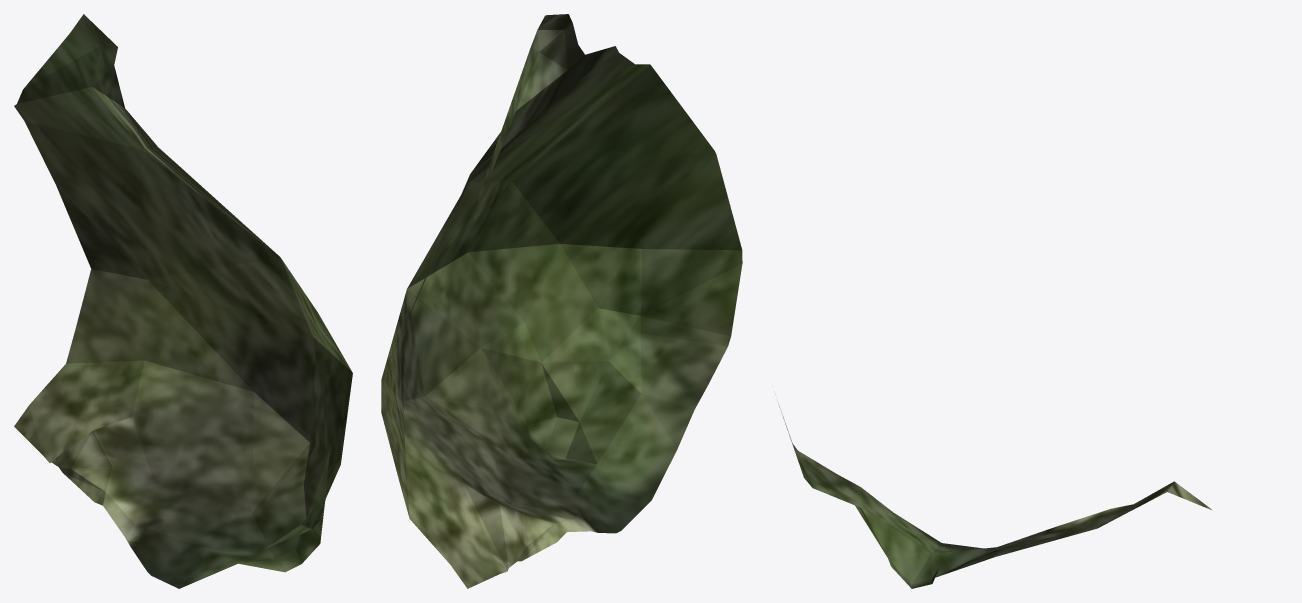
The picture shows the model from 3 angles, left to right: view 1: azimuth 30°, elevation 25°; view 2: azimuth 150°, elevation 25°; view 3: azimuth 270°, elevation 25°; orthographic projection. The views are drawn at different scales.
Bounding box in the file's own units: 0.8035 × 2.23 × 1.94.
2 materials, 2 textured.
